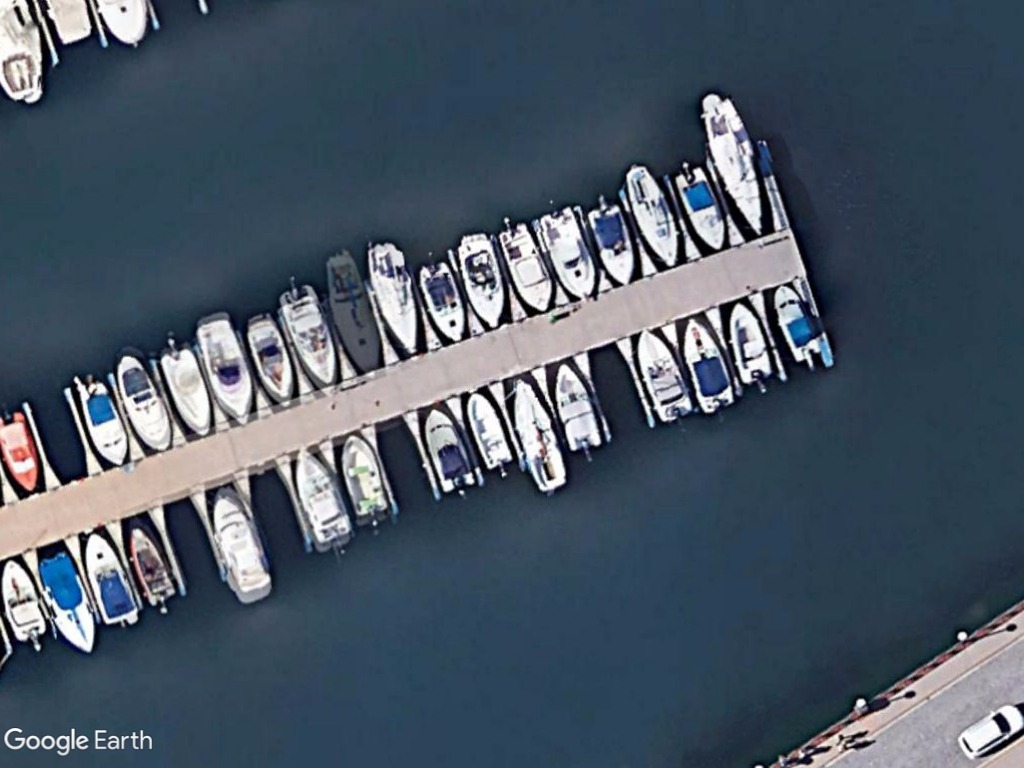boat: (700, 88, 770, 238), (319, 245, 386, 377), (209, 483, 278, 610), (190, 309, 259, 427), (510, 373, 572, 497), (276, 279, 342, 392), (363, 236, 425, 356), (294, 443, 358, 555), (621, 158, 683, 273), (37, 549, 103, 656), (114, 347, 176, 455), (678, 312, 740, 416), (535, 201, 598, 302), (495, 215, 557, 315), (417, 402, 479, 499), (81, 531, 141, 629), (157, 343, 217, 441), (637, 326, 696, 425), (549, 358, 607, 457), (73, 372, 132, 469), (453, 227, 508, 331), (670, 159, 729, 253), (582, 194, 638, 289), (339, 432, 393, 529), (126, 518, 181, 611), (725, 294, 779, 388), (245, 310, 297, 407), (414, 255, 469, 345), (770, 277, 823, 368), (461, 390, 515, 473), (0, 555, 48, 646), (0, 407, 47, 495)
car: (954, 701, 1024, 759)
